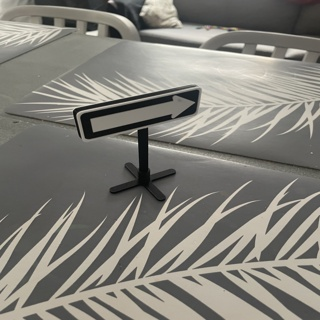sign_oneway_right: (70, 88, 203, 137)
